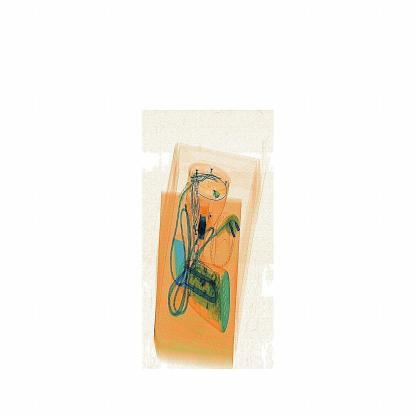pliers: (168, 220, 192, 308)
